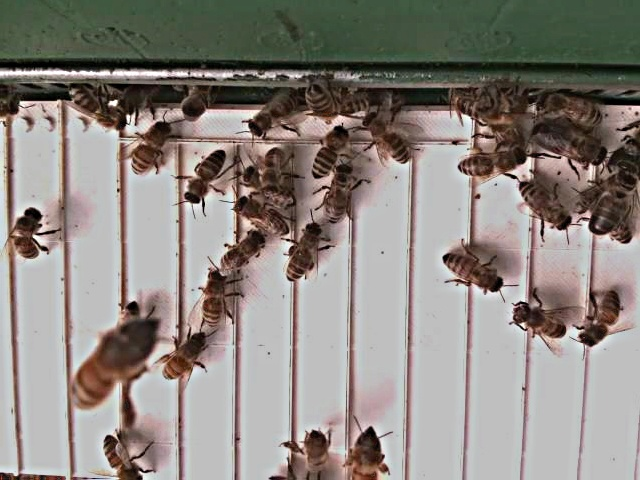Drone: (526, 118, 610, 169), (586, 165, 634, 241)
Worker: (514, 180, 575, 237), (438, 251, 505, 293), (577, 289, 622, 351), (229, 194, 289, 240), (179, 148, 223, 209), (361, 113, 411, 166), (453, 147, 526, 183), (128, 118, 170, 180), (282, 222, 322, 286), (510, 301, 569, 344), (310, 124, 349, 185), (159, 334, 205, 385), (320, 163, 356, 228), (534, 93, 603, 126), (98, 430, 142, 480), (216, 230, 265, 274), (9, 206, 46, 264), (198, 268, 228, 333)
